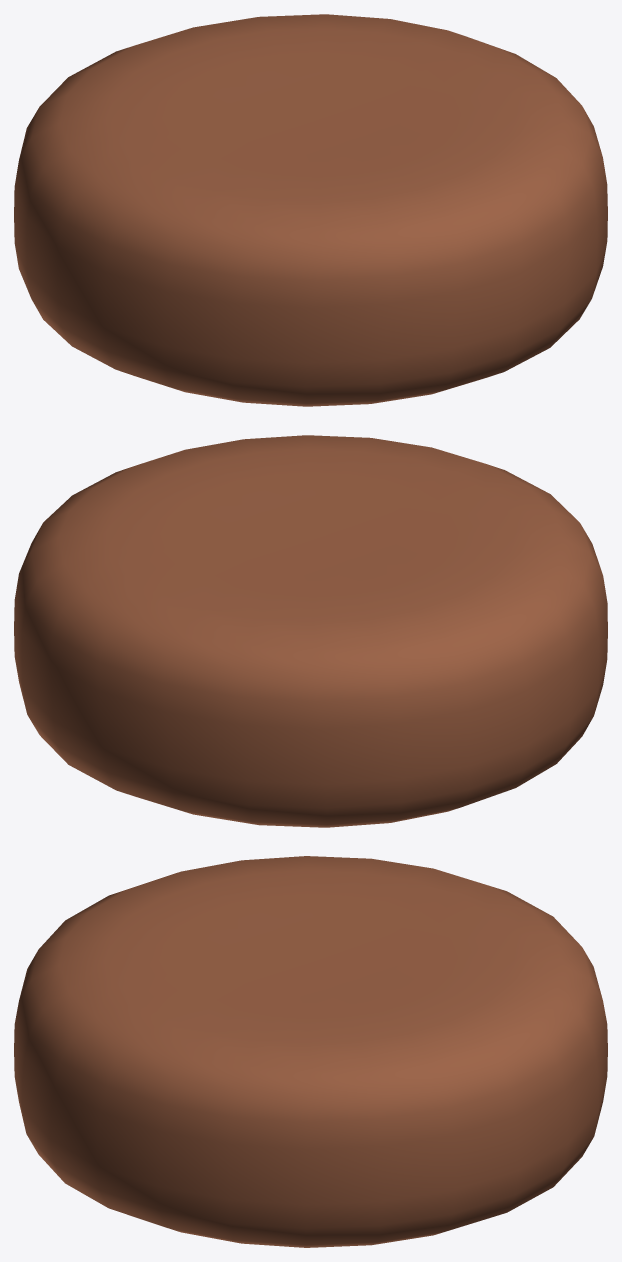
File: Mint_C_03.fbx
The picture shows the model from 3 angles, top to bottom: view 1: azimuth 30°, elevation 25°; view 2: azimuth 150°, elevation 25°; view 3: azimuth 270°, elevation 25°; orthographic projection.
Parts seen in each view (by area): view 1: Mint_C_03_LOD0; view 2: Mint_C_03_LOD0; view 3: Mint_C_03_LOD0.
Part boxes in pixels (x1,y1,x2,y2): Mint_C_03_LOD0: (14,14,607,406); Mint_C_03_LOD0: (14,435,607,827); Mint_C_03_LOD0: (14,856,607,1247).
Size of what is drawn, in the model's own units: 326 by 116 by 326.
